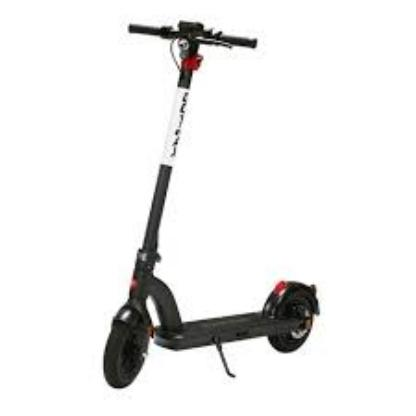bike: (101, 18, 321, 390)
